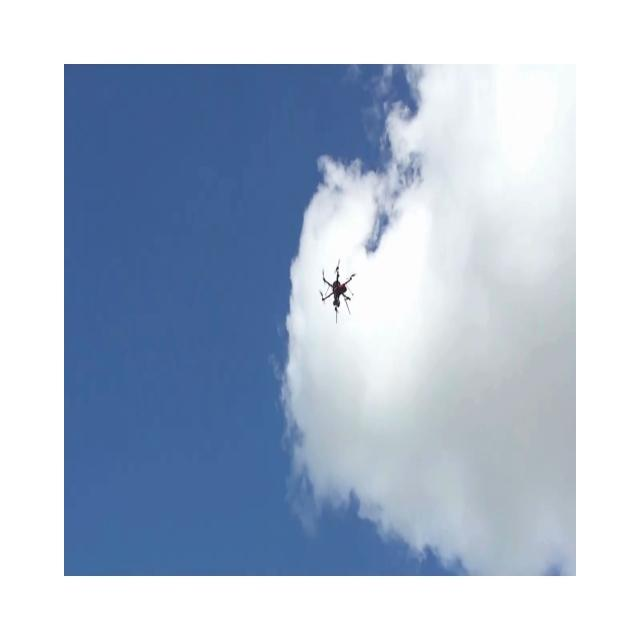drone: (319, 258, 356, 324)
